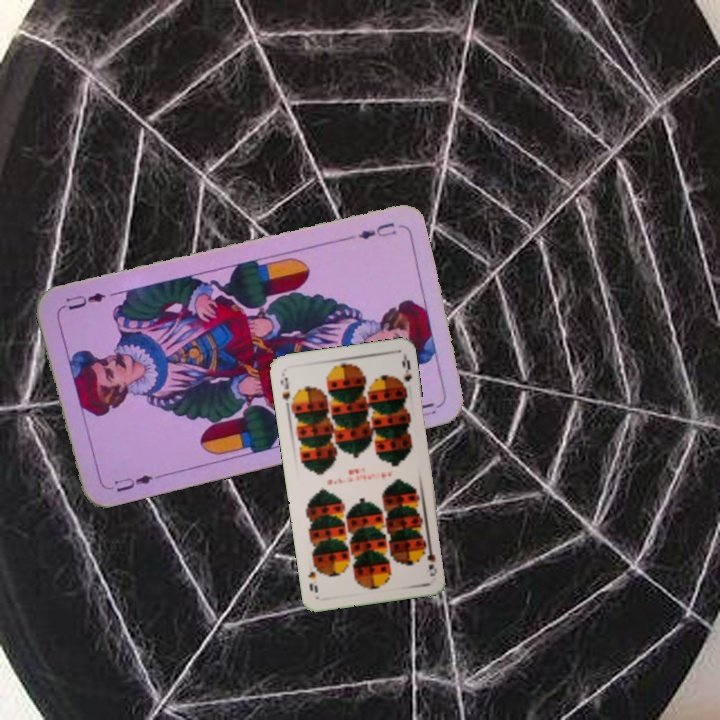EU: (104, 470, 156, 495), (354, 218, 399, 242)
S9: (276, 369, 292, 409), (420, 539, 438, 572)
